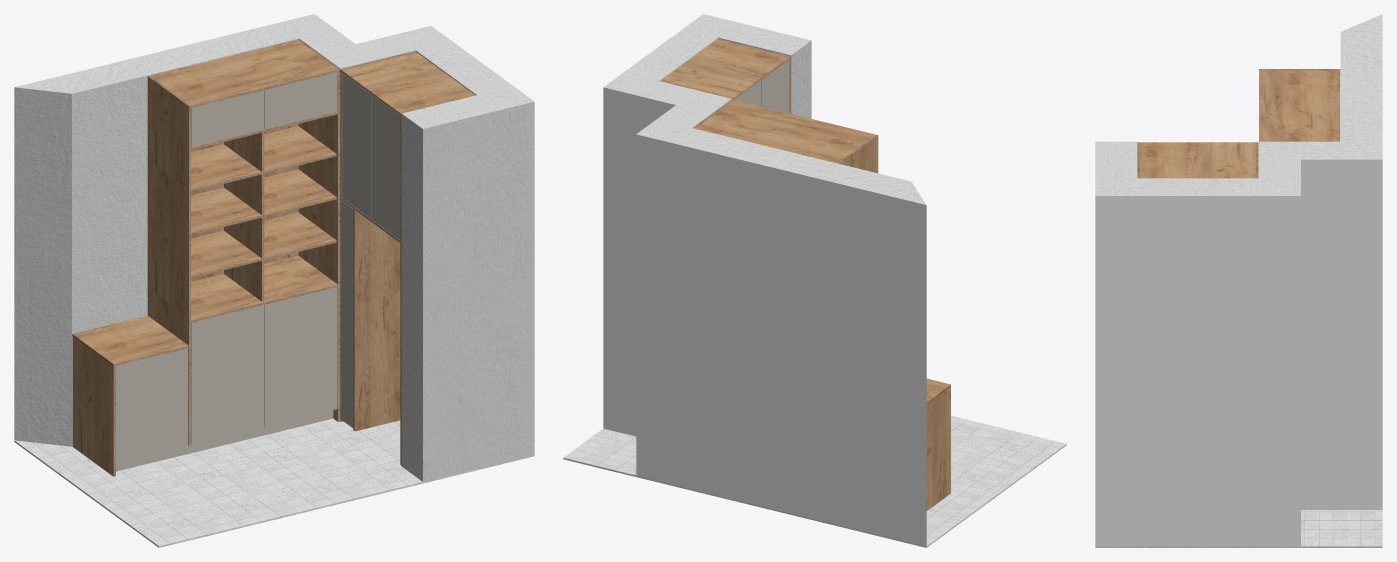
Rendered from sanvuzol-46.glb.
3 renders of one model, left to right at view 1: azimuth 30°, elevation 25°; view 2: azimuth 150°, elevation 25°; view 3: azimuth 270°, elevation 25°, orthographic. The views are drawn at different scales.
Visible parts, largest first — view 1: R (×2), F (×2), підлога, Фасад шухляди (×8), Боковина ліва (×3), Двері (×5), Стойка (×2), Полиця (×6), Кришка (×2), Боковина права (×2), Перегородка, Стільниця (+3 smaller); view 2: F (×2), L, підлога, Кришка (×2), R (×2), Боковина ліва (×2), Двері; view 3: F (×2), R (×2), Кришка (×2), підлога, L.
Part boxes in pixels (x1,y1,x2,y2): R (×2): (299, 14, 534, 481); F (×2): (14, 14, 534, 446); підлога: (14, 418, 534, 547); Фасад шухляди (×8): (116, 287, 337, 462); Боковина ліва (×3): (72, 51, 415, 476); Двері (×5): (191, 72, 400, 427); Стойка (×2): (224, 132, 400, 431); Полиця (×6): (191, 126, 336, 277); Кришка (×2): (150, 40, 474, 114); Боковина права (×2): (297, 39, 475, 465); Перегородка: (191, 255, 337, 322); Стільниця: (72, 315, 188, 366); F (×2): (603, 14, 926, 546); L: (603, 81, 695, 436); підлога: (563, 415, 1066, 547); Кришка (×2): (661, 39, 875, 163); R (×2): (636, 14, 811, 134); Боковина ліва (×2): (837, 134, 950, 510); Двері: (761, 59, 789, 113); F (×2): (1095, 14, 1382, 546); R (×2): (1095, 141, 1382, 509); Кришка (×2): (1140, 70, 1339, 178); підлога: (1095, 510, 1382, 547); L: (1259, 159, 1300, 195).
Size of the model in its own units: 3077 by 2775 by 2055.
Materials: 17 (8 with a texture image).
